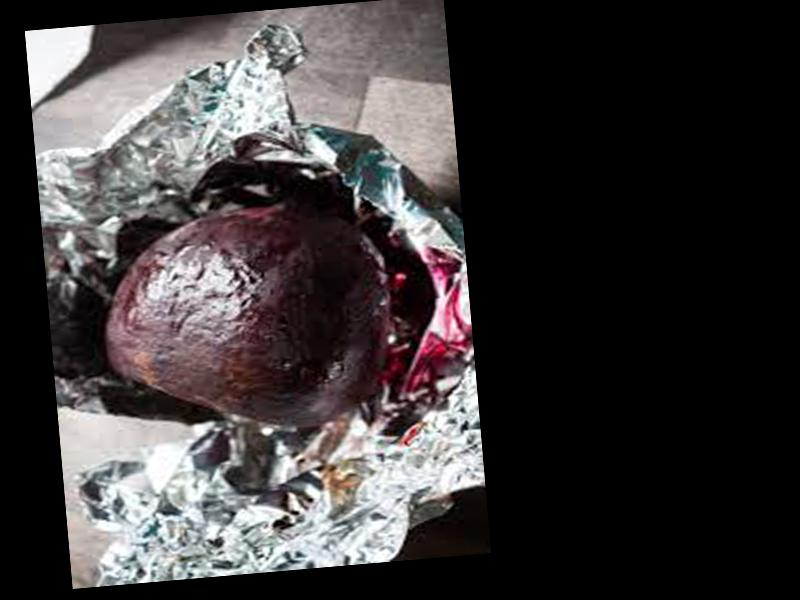Beet: (93, 192, 388, 443)
